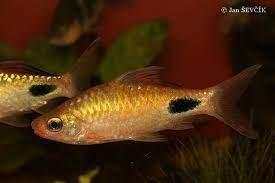Black Spotted Barb: (30, 66, 275, 145)
